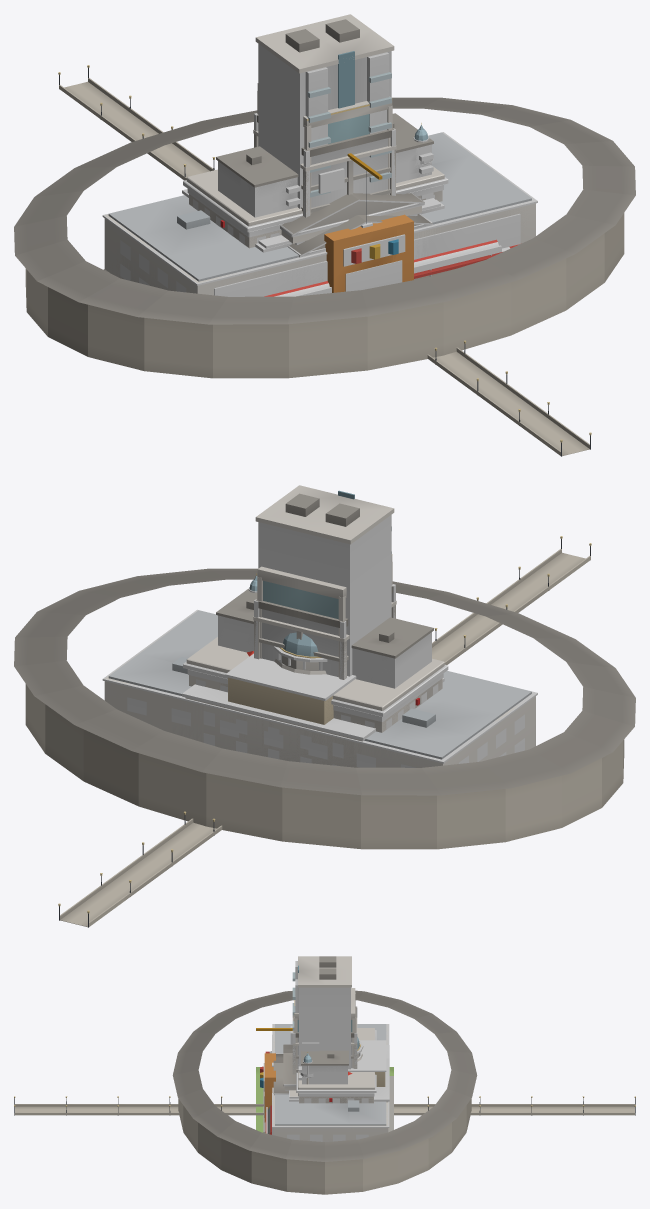
The model's file is city-kit.glb.
3 renders of one model, top to bottom at view 1: azimuth 30°, elevation 25°; view 2: azimuth 150°, elevation 25°; view 3: azimuth 270°, elevation 25°, orthographic. The views are drawn at different scales.
Visible parts, largest first — view 1: stadium, univermag, novostroyka, bridge, univermag_lod, prezident, apt9, office, agentlik, bank, bozor, teatr (+2 smaller); view 2: stadium, univermag, novostroyka, teatr, bridge, prezident, apt9, univermag_lod, office, bank, apt9_lod, agentlik (+1 smaller); view 3: stadium, univermag, novostroyka, bridge, prezident, teatr, apt9, univermag_lod, prezident_lod, agentlik, bank, office.
Boxes of the visible parts, x1,y1,x2,y2 form: stadium: (14,97,635,378); univermag: (102,132,537,296); novostroyka: (255,14,394,208); bridge: (58,65,591,456); univermag_lod: (104,203,535,296); prezident: (183,166,448,247); apt9: (216,113,433,217); office: (254,113,395,217); agentlik: (253,129,396,217); bank: (257,83,392,213); bozor: (264,239,501,296); teatr: (182,189,444,257); stadium: (14,568,635,849); univermag: (102,609,537,767); novostroyka: (255,485,394,676); teatr: (182,653,444,767); bridge: (58,536,591,927); prezident: (183,632,448,732); apt9: (216,589,433,688); univermag_lod: (104,615,535,767); office: (254,584,395,679); bank: (257,554,392,677); apt9_lod: (218,615,431,688); agentlik: (253,600,396,679); stadium: (172,990,477,1194); univermag: (260,1024,389,1141); novostroyka: (292,956,351,1069); bridge: (14,1096,635,1115); prezident: (283,1028,376,1103); teatr: (263,1040,392,1132); apt9: (298,1050,348,1084); univermag_lod: (264,1026,388,1141); prezident_lod: (284,1028,373,1103); agentlik: (290,1018,357,1074); bank: (294,988,355,1072); office: (292,1006,357,1072).
Size of the model in its own units: 143 by 56.84 by 217.
